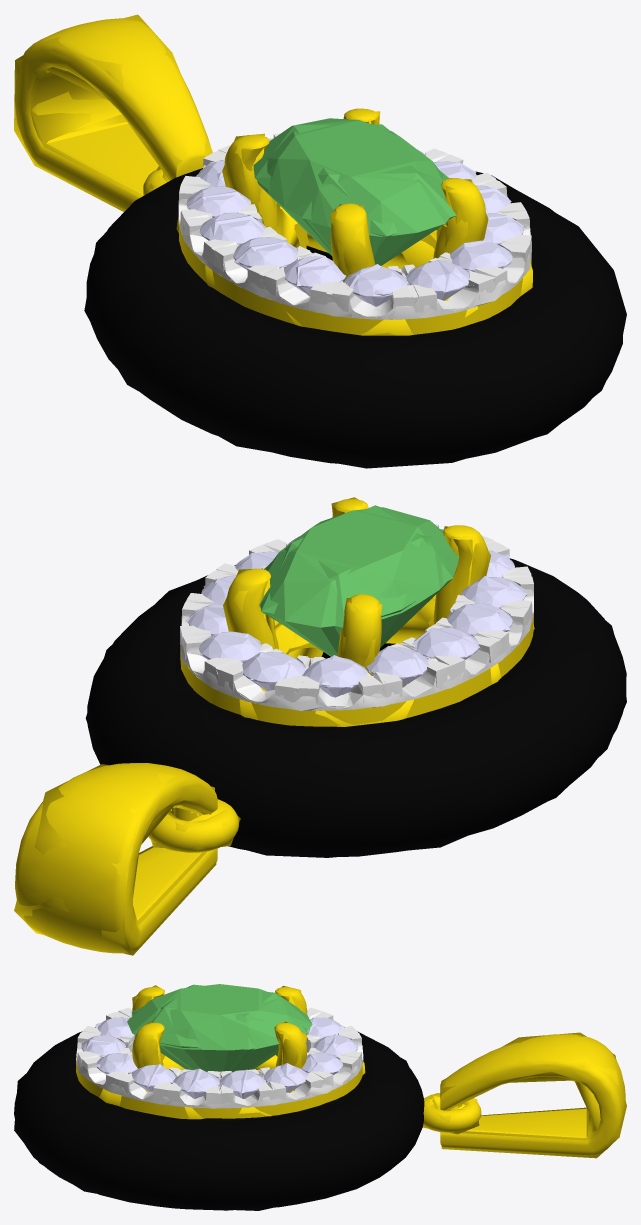
File: DPN-D000677447_hub.glb
The picture shows the model from 3 angles, top to bottom: view 1: azimuth 30°, elevation 25°; view 2: azimuth 150°, elevation 25°; view 3: azimuth 270°, elevation 25°; orthographic projection. The views are drawn at different scales.
Visible parts, largest first — view 1: highPolyMesh, lowPolyMesh; view 2: highPolyMesh, lowPolyMesh; view 3: highPolyMesh, lowPolyMesh.
Boxes of the visible parts, left/top/right/bottom form: highPolyMesh: left=14, top=18, right=622, bottom=465; lowPolyMesh: left=14, top=14, right=626, bottom=468; highPolyMesh: left=15, top=499, right=626, bottom=953; lowPolyMesh: left=14, top=497, right=626, bottom=955; highPolyMesh: left=14, top=984, right=625, bottom=1210; lowPolyMesh: left=14, top=984, right=626, bottom=1210.
Size of the model in its own units: 0.0131 by 0.0061 by 0.0224.
